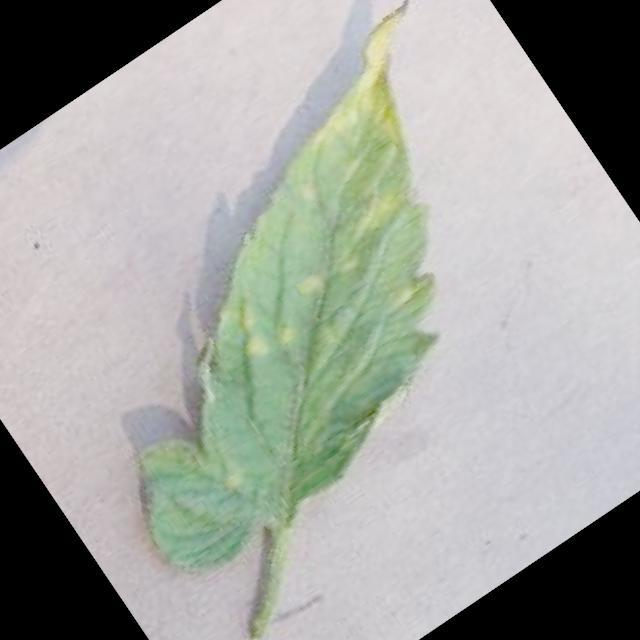Tomato mold leaf: (0, 0, 615, 594)
